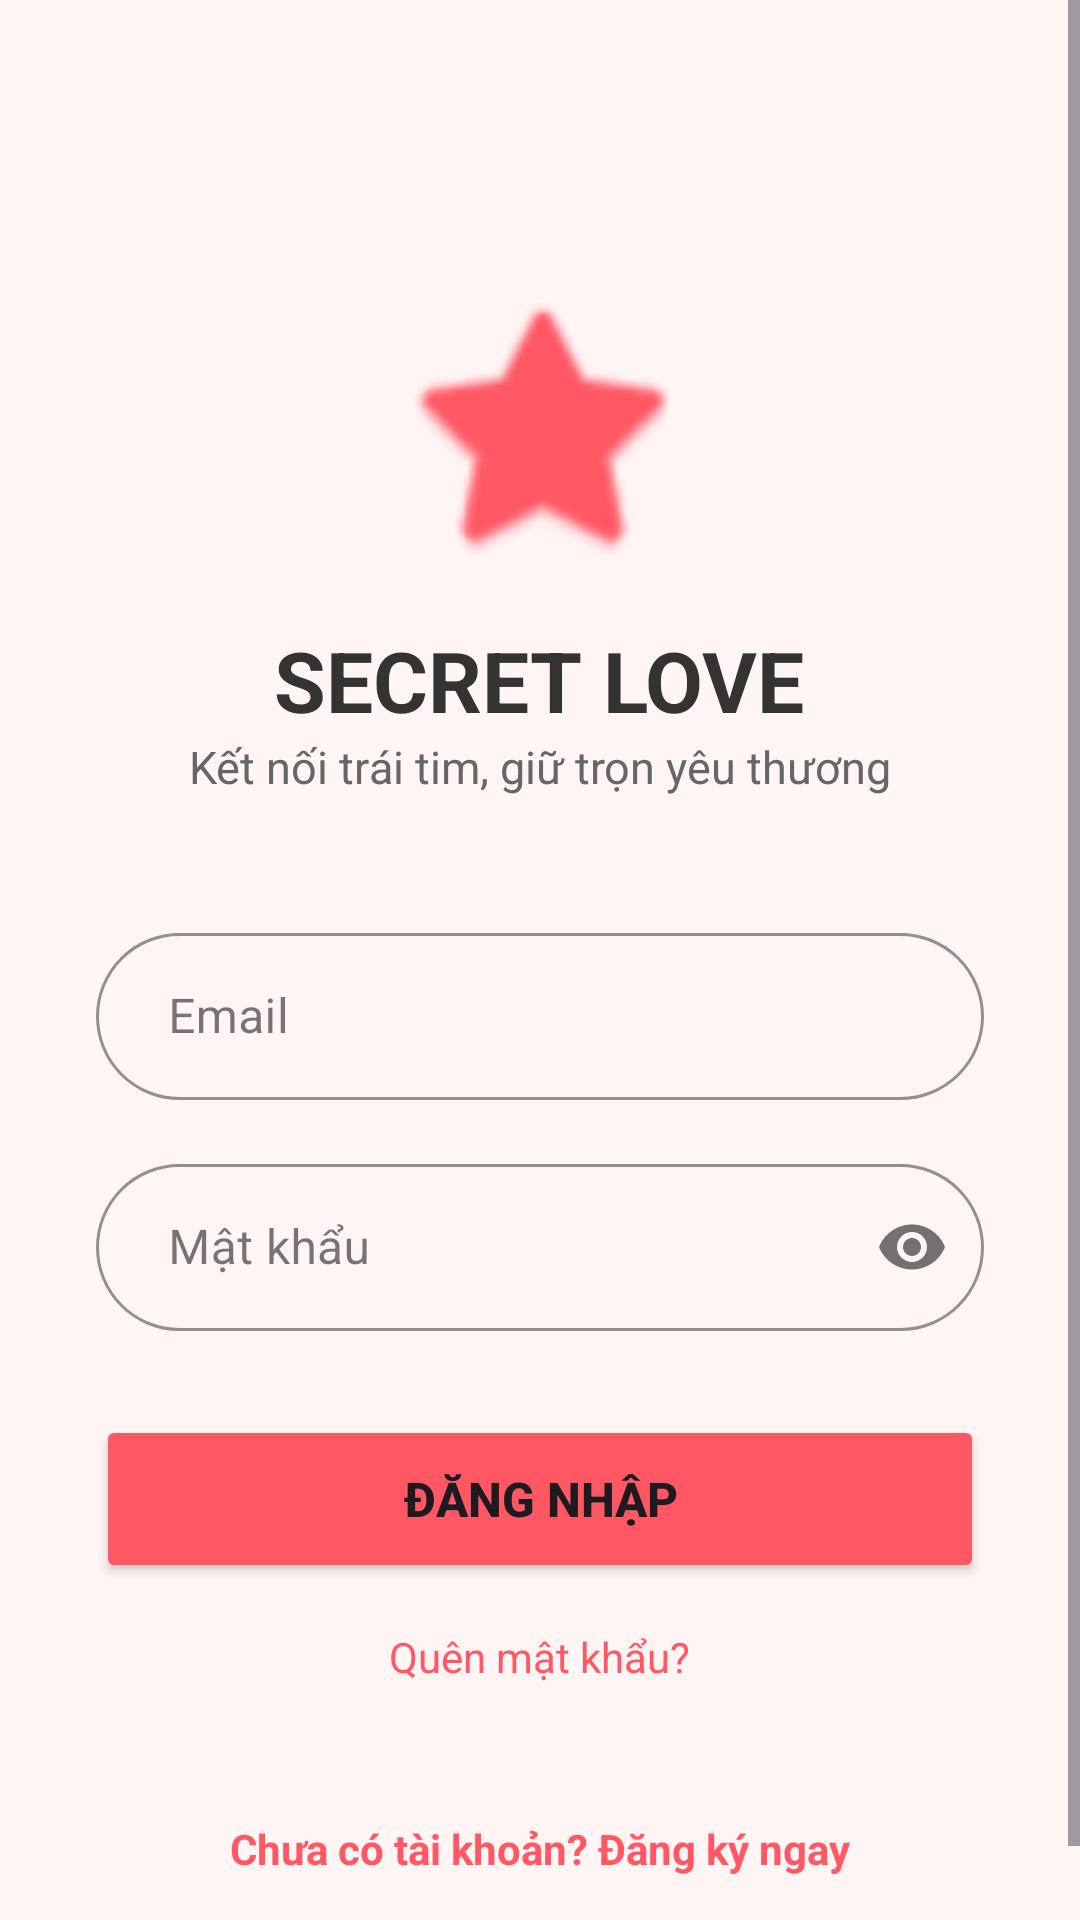

Icon bounding boxes for this 1080 x 1920 phone screenshot, format (x1, y1, x2, y2):
star on: (418, 307, 667, 549)
